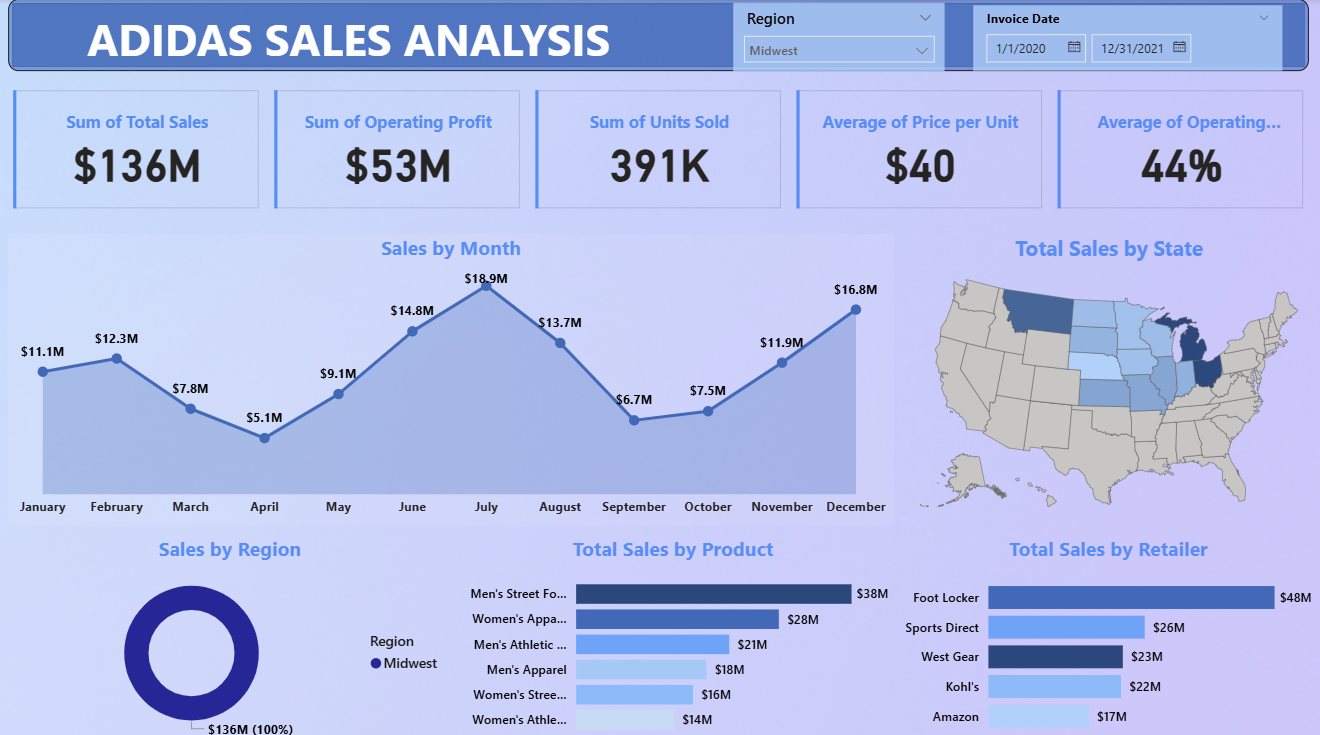

The page's visual inventory and layout, read from the dashboard file:
{"tool":"powerbi","page":{"name":"Page 1","canvas":[1280,720],"ordinal":0},"visuals":[{"type":"shape","box":[11,0,1255.6,70],"z":0},{"type":"textbox","box":[82.3,4.1,531,79.6],"z":1000},{"type":"cardVisual","fields":{"Data":["Sum(Data Sales Adidas.Total Sales)","Sum(Data Sales Adidas.Operating Profit)","Sum(Data Sales Adidas.Units Sold)","Avg(Data Sales Adidas.Price per Unit)","Avg(Data Sales Adidas.Operating Margin)"]},"box":[11,83.7,1255.6,124.9],"z":2000},{"type":"areaChart","title":"Sales by Month","fields":{"Category":["Data Sales Adidas.Invoice Date.Variation.Date Hierarchy.Month"],"Y":["Sum(Data Sales Adidas.Total Sales)"]},"box":[11,226.4,854.9,281.3],"z":3000},{"type":"shapeMap","title":"Total Sales by State","fields":{"Category":["Data Sales Adidas.State"],"Value":["Sum(Data Sales Adidas.Total Sales)"]},"box":[865.9,226.4,414.4,281.3],"z":4000},{"type":"donutChart","title":"Sales by Region","fields":{"Category":["Data Sales Adidas.Region"],"Y":["Sum(Data Sales Adidas.Total Sales)"]},"box":[11,517.3,428.1,203.1],"z":5000},{"type":"barChart","title":"Total Sales by Product","fields":{"Category":["Data Sales Adidas.Product"],"Y":["Sum(Data Sales Adidas.Total Sales)"]},"box":[439.1,517.3,426.8,203.1],"z":6000},{"type":"barChart","title":"Total Sales by Retailer","fields":{"Y":["Sum(Data Sales Adidas.Total Sales)"],"Category":["Data Sales Adidas.Retailer"]},"box":[871.4,517.3,403.4,203.1],"z":7000},{"type":"slicer","fields":{"Values":["Data Sales Adidas.Region"]},"box":[710.5,3.7,204.2,66],"z":8000},{"type":"slicer","fields":{"Values":["Data Sales Adidas.Invoice Date"]},"box":[942.8,6.1,298.4,63.6],"z":9000}]}

Visuals, with their boxes in screenshot pixels (x1, y1, x2, y2), scaled from the page's 1280x720 canvas onto the 1320x735 screenshot:
shape: rect(11, 0, 1306, 71)
textbox: rect(85, 4, 632, 85)
cardVisual - Sum(Data Sales Adidas.Total Sales) x Sum(Data Sales Adidas.Operating Profit): rect(11, 85, 1306, 213)
"Sales by Month" areaChart: rect(11, 231, 893, 518)
"Total Sales by State" shapeMap: rect(893, 231, 1319, 518)
"Sales by Region" donutChart: rect(11, 528, 453, 734)
"Total Sales by Product" barChart: rect(453, 528, 893, 734)
"Total Sales by Retailer" barChart: rect(899, 528, 1315, 734)
slicer - Data Sales Adidas.Region: rect(733, 4, 943, 71)
slicer - Data Sales Adidas.Invoice Date: rect(972, 6, 1280, 71)
